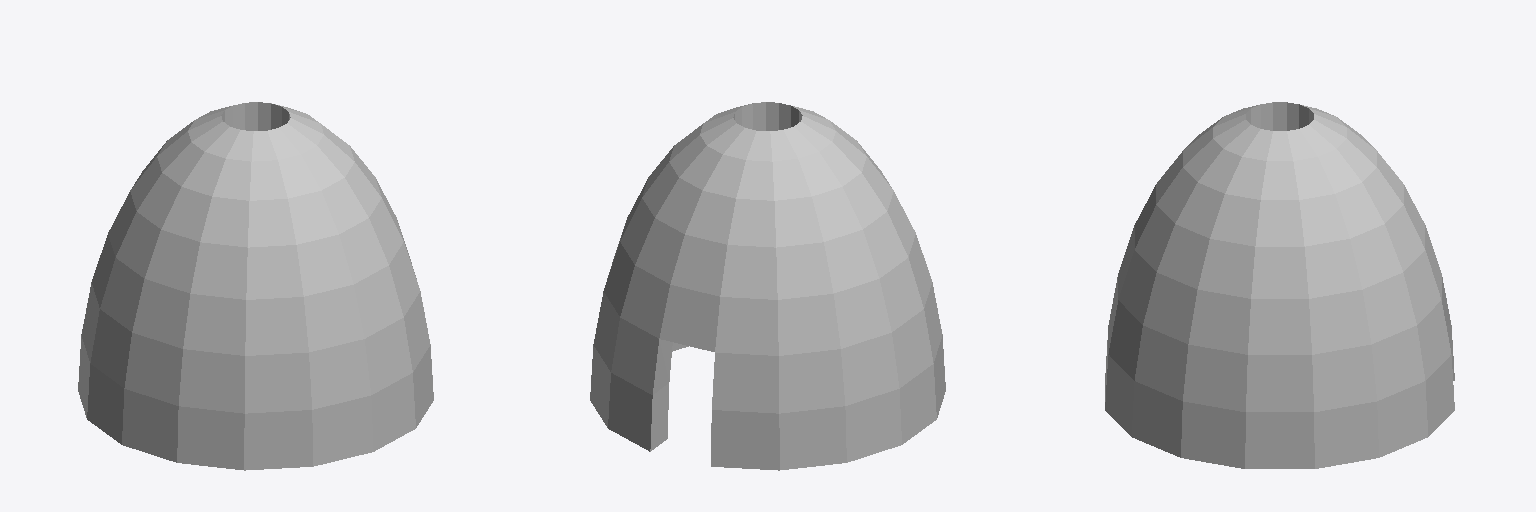
The model's file is coke_oven.obj.
The picture shows the model from 3 angles: view 1: azimuth 30°, elevation 25°; view 2: azimuth 150°, elevation 25°; view 3: azimuth 270°, elevation 25°; orthographic projection.
Visible parts, largest first — view 1: oven_Sphere.001; view 2: oven_Sphere.001; view 3: oven_Sphere.001.
Boxes of the visible parts, x1=… form: oven_Sphere.001: x1=78, y1=102, x2=433, y2=470; oven_Sphere.001: x1=590, y1=102, x2=945, y2=470; oven_Sphere.001: x1=1105, y1=102, x2=1454, y2=468.
Size of the model in its own units: 4.9 by 4.31 by 4.9.